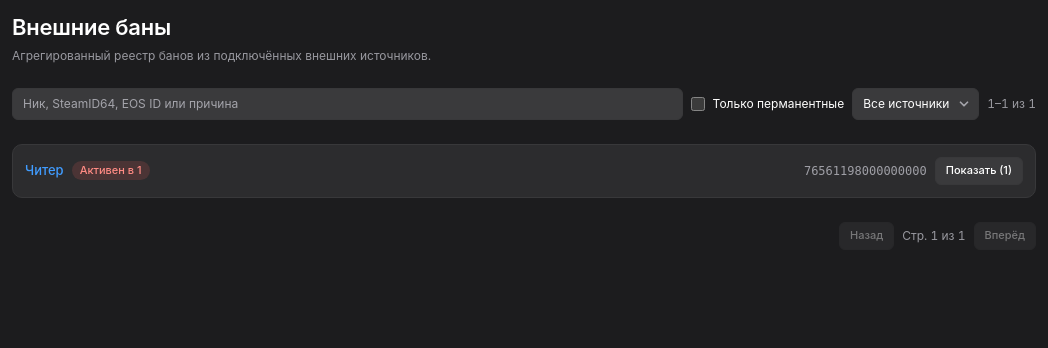
Test case: ExternalBansPage › reveals the ban details of an identity on demand
expect the text "Использование аимбота" is not shown: met
Click the button "Показать (1)": point(979, 171) 935,157 -> 1023,185
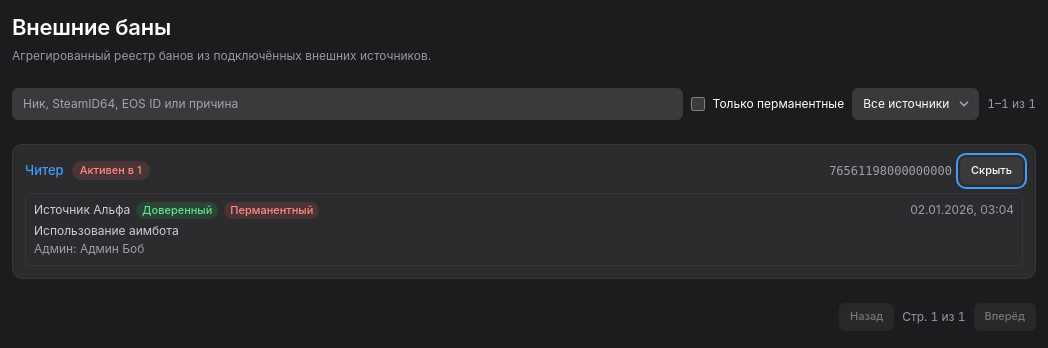
expect the text "Использование аимбота" is shown: met, box 34,223 -> 179,238
expect the text "Источник Альфа" is shown: met, box 34,202 -> 130,218
expect the text "Админ: Админ Боб" is shown: met, box 34,241 -> 144,256
